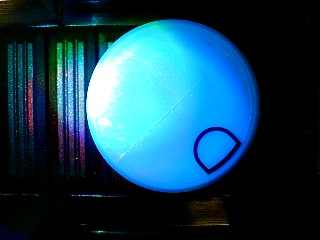MIPO1: (86, 18, 259, 192)
